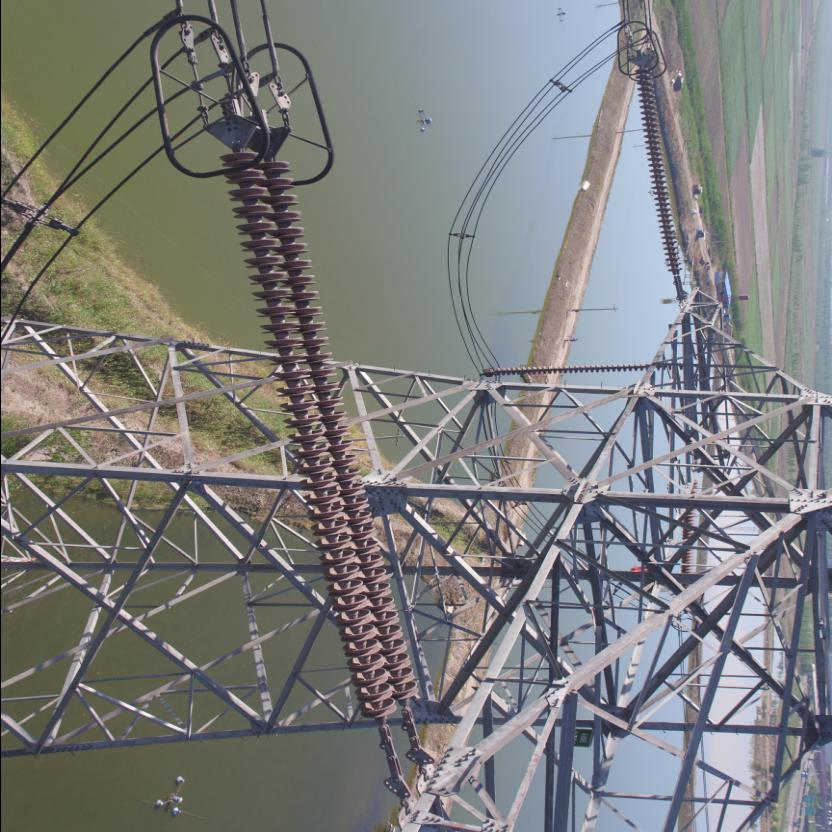insulator: (218, 142, 422, 750), (634, 69, 684, 275)
